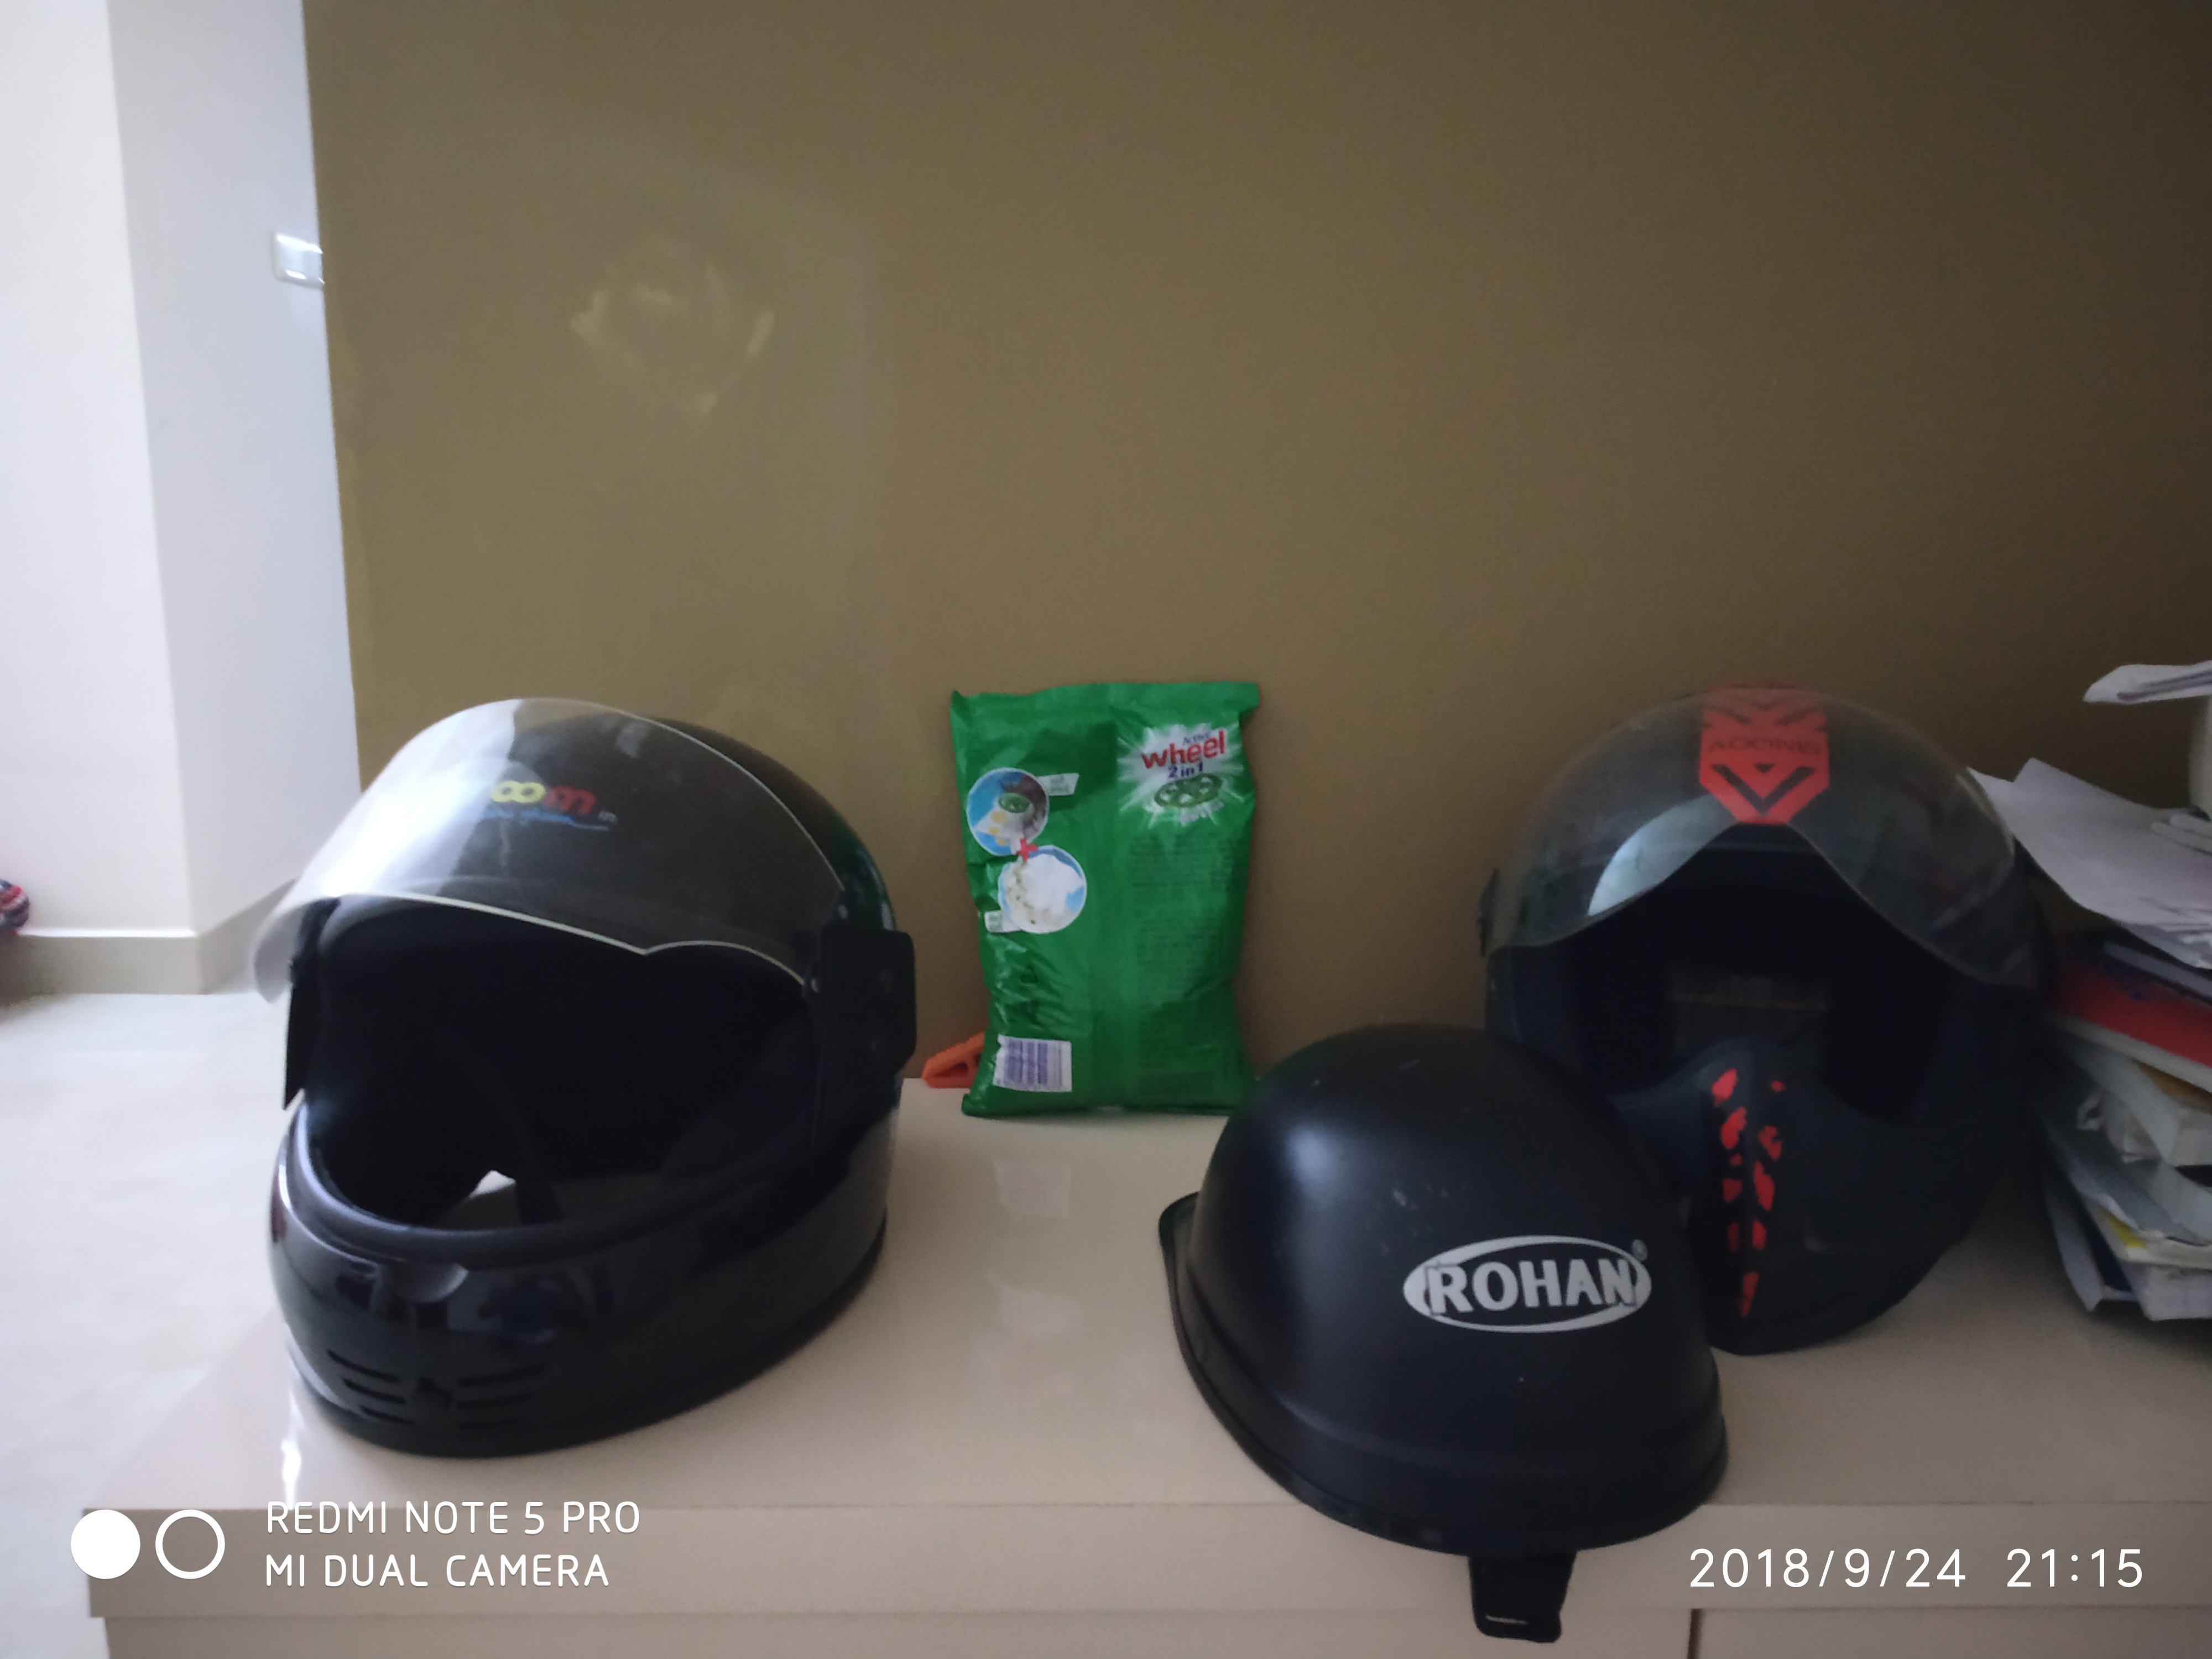detergent: (956, 677, 1254, 1118)
